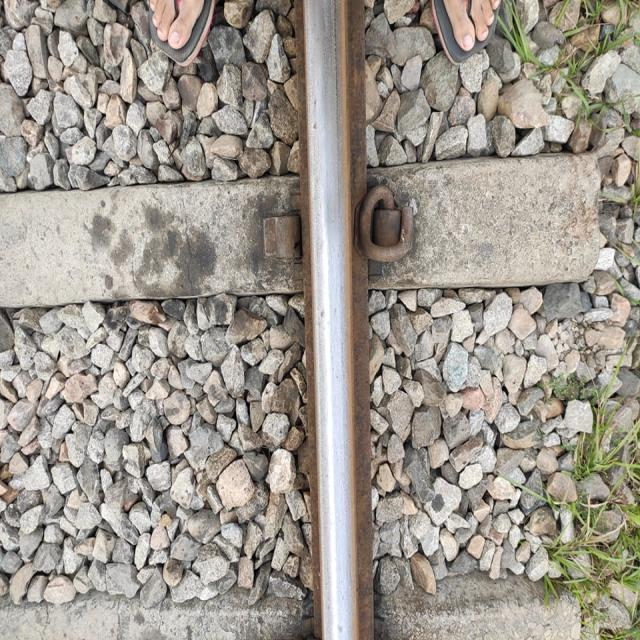Faults: (259, 212, 301, 264)
